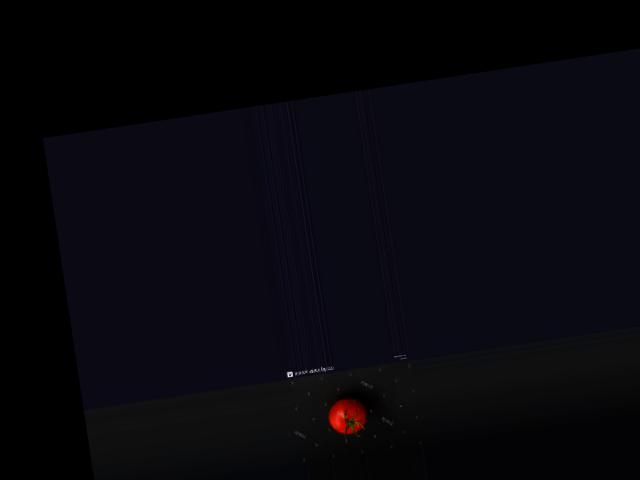tomato: (326, 396, 370, 436)
